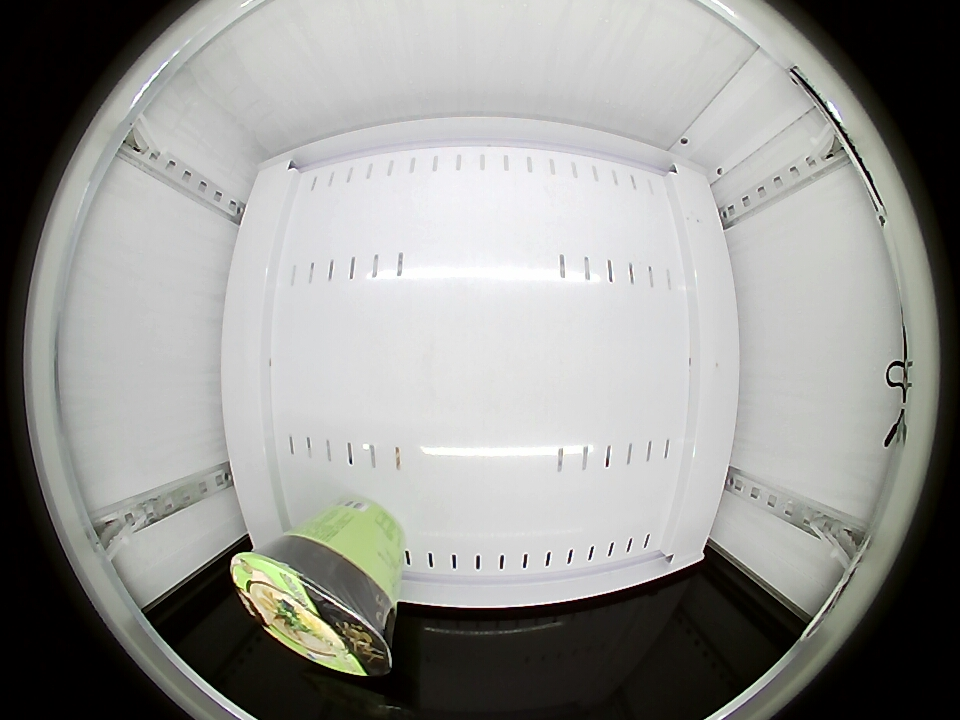tangdaren: (229, 535, 395, 677)
